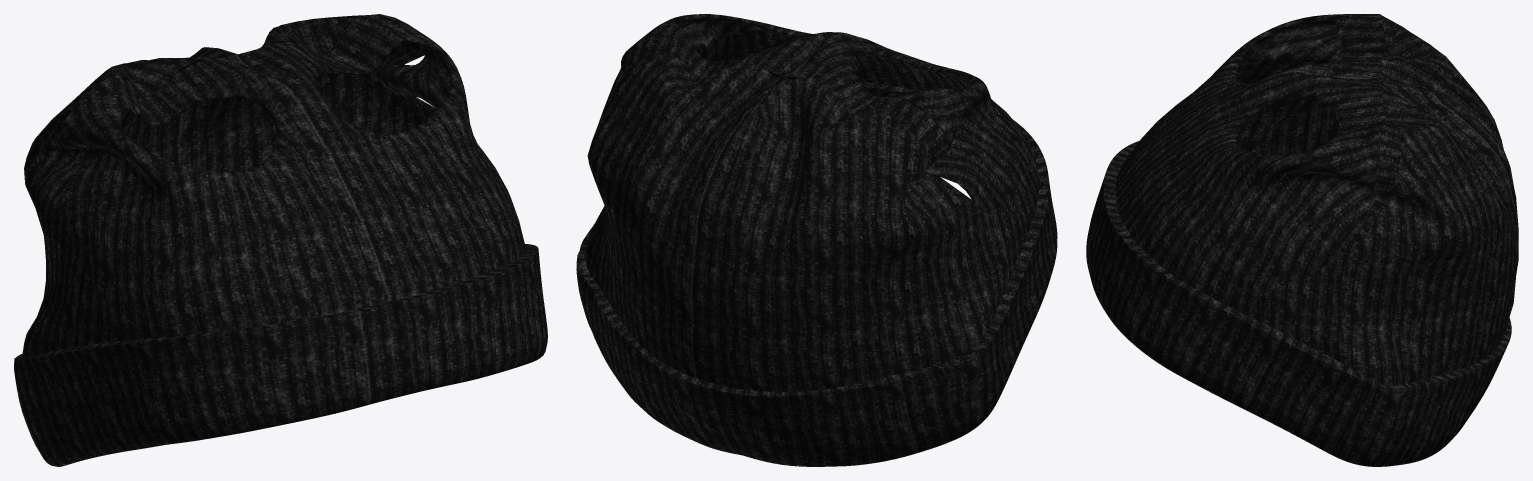
The model's file is Beani_black.glb.
3 views of the same model, side by side, from view 1: azimuth 30°, elevation 25°; view 2: azimuth 150°, elevation 25°; view 3: azimuth 270°, elevation 25° (orthographic). The views are drawn at different scales.
Visible parts, largest first — view 1: polySurface2; view 2: polySurface2; view 3: polySurface2.
Part boxes in pixels (bbox=[...]): polySurface2: bbox=[14, 14, 547, 466]; polySurface2: bbox=[576, 14, 1057, 466]; polySurface2: bbox=[1086, 14, 1518, 466].
Size of the model in its own units: 0.07 by 0.0595 by 0.0676.
Materials: 1 (1 with a texture image).
